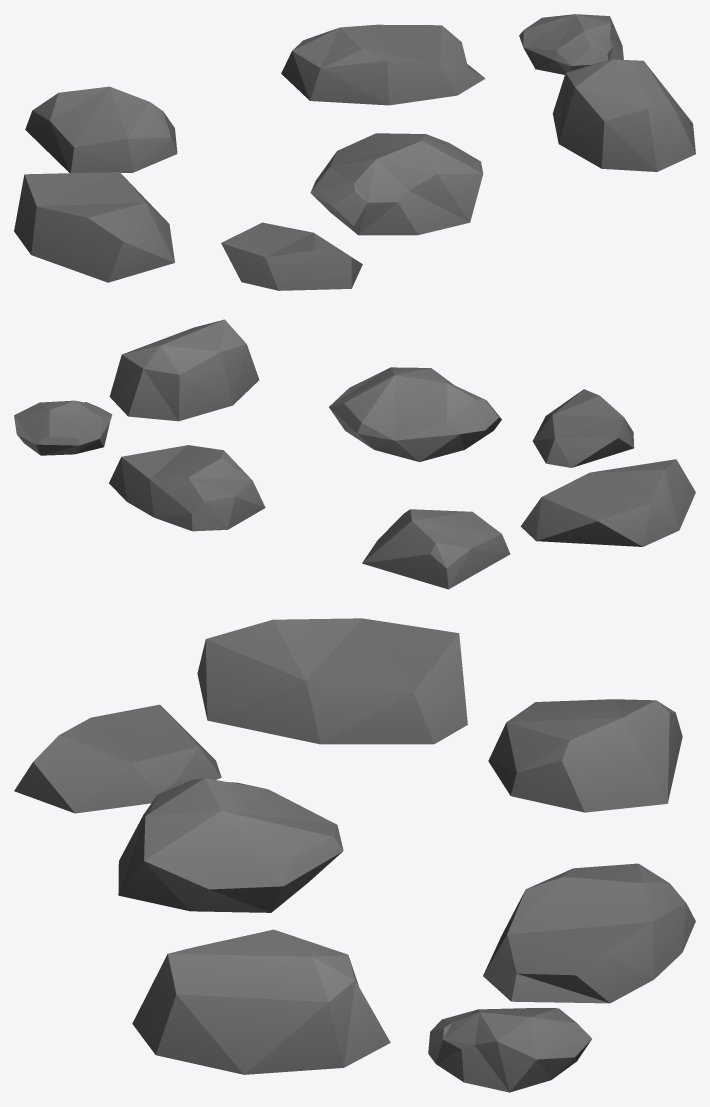
Rendered from Env_Pebbles_01.obj.
3 views of the same model, one above another, from view 1: azimuth 30°, elevation 25°; view 2: azimuth 150°, elevation 25°; view 3: azimuth 270°, elevation 25° (orthographic). The views are drawn at different scales.
Parts seen in each view (by area): view 1: Env_Pebbles_01; view 2: Env_Pebbles_01; view 3: Env_Pebbles_01.
Part boxes in pixels (x1,y1,x2,y2): Env_Pebbles_01: (14, 14, 695, 290); Env_Pebbles_01: (14, 319, 695, 589); Env_Pebbles_01: (14, 618, 695, 1092).
Bounding box in the file's own units: 0.6469 × 0.0556 × 0.4251.
1 material, 1 textured.
